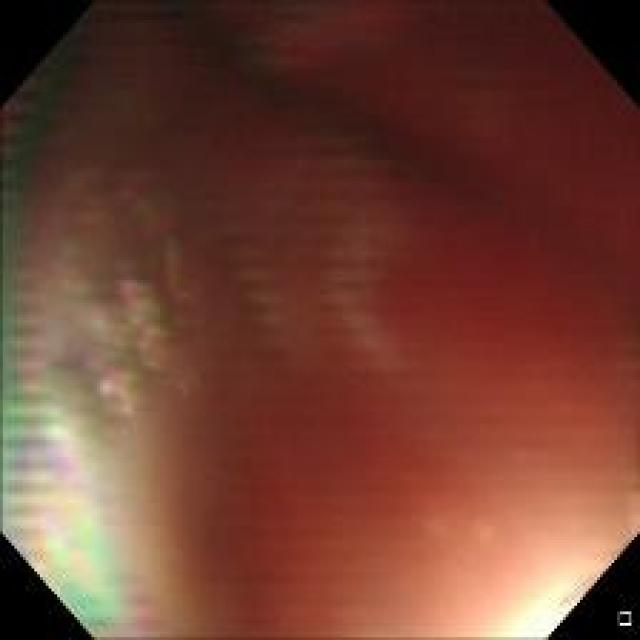color misalignment: (9, 8, 636, 634), (14, 191, 210, 599)
saturation: (19, 310, 141, 616), (419, 534, 609, 638)
